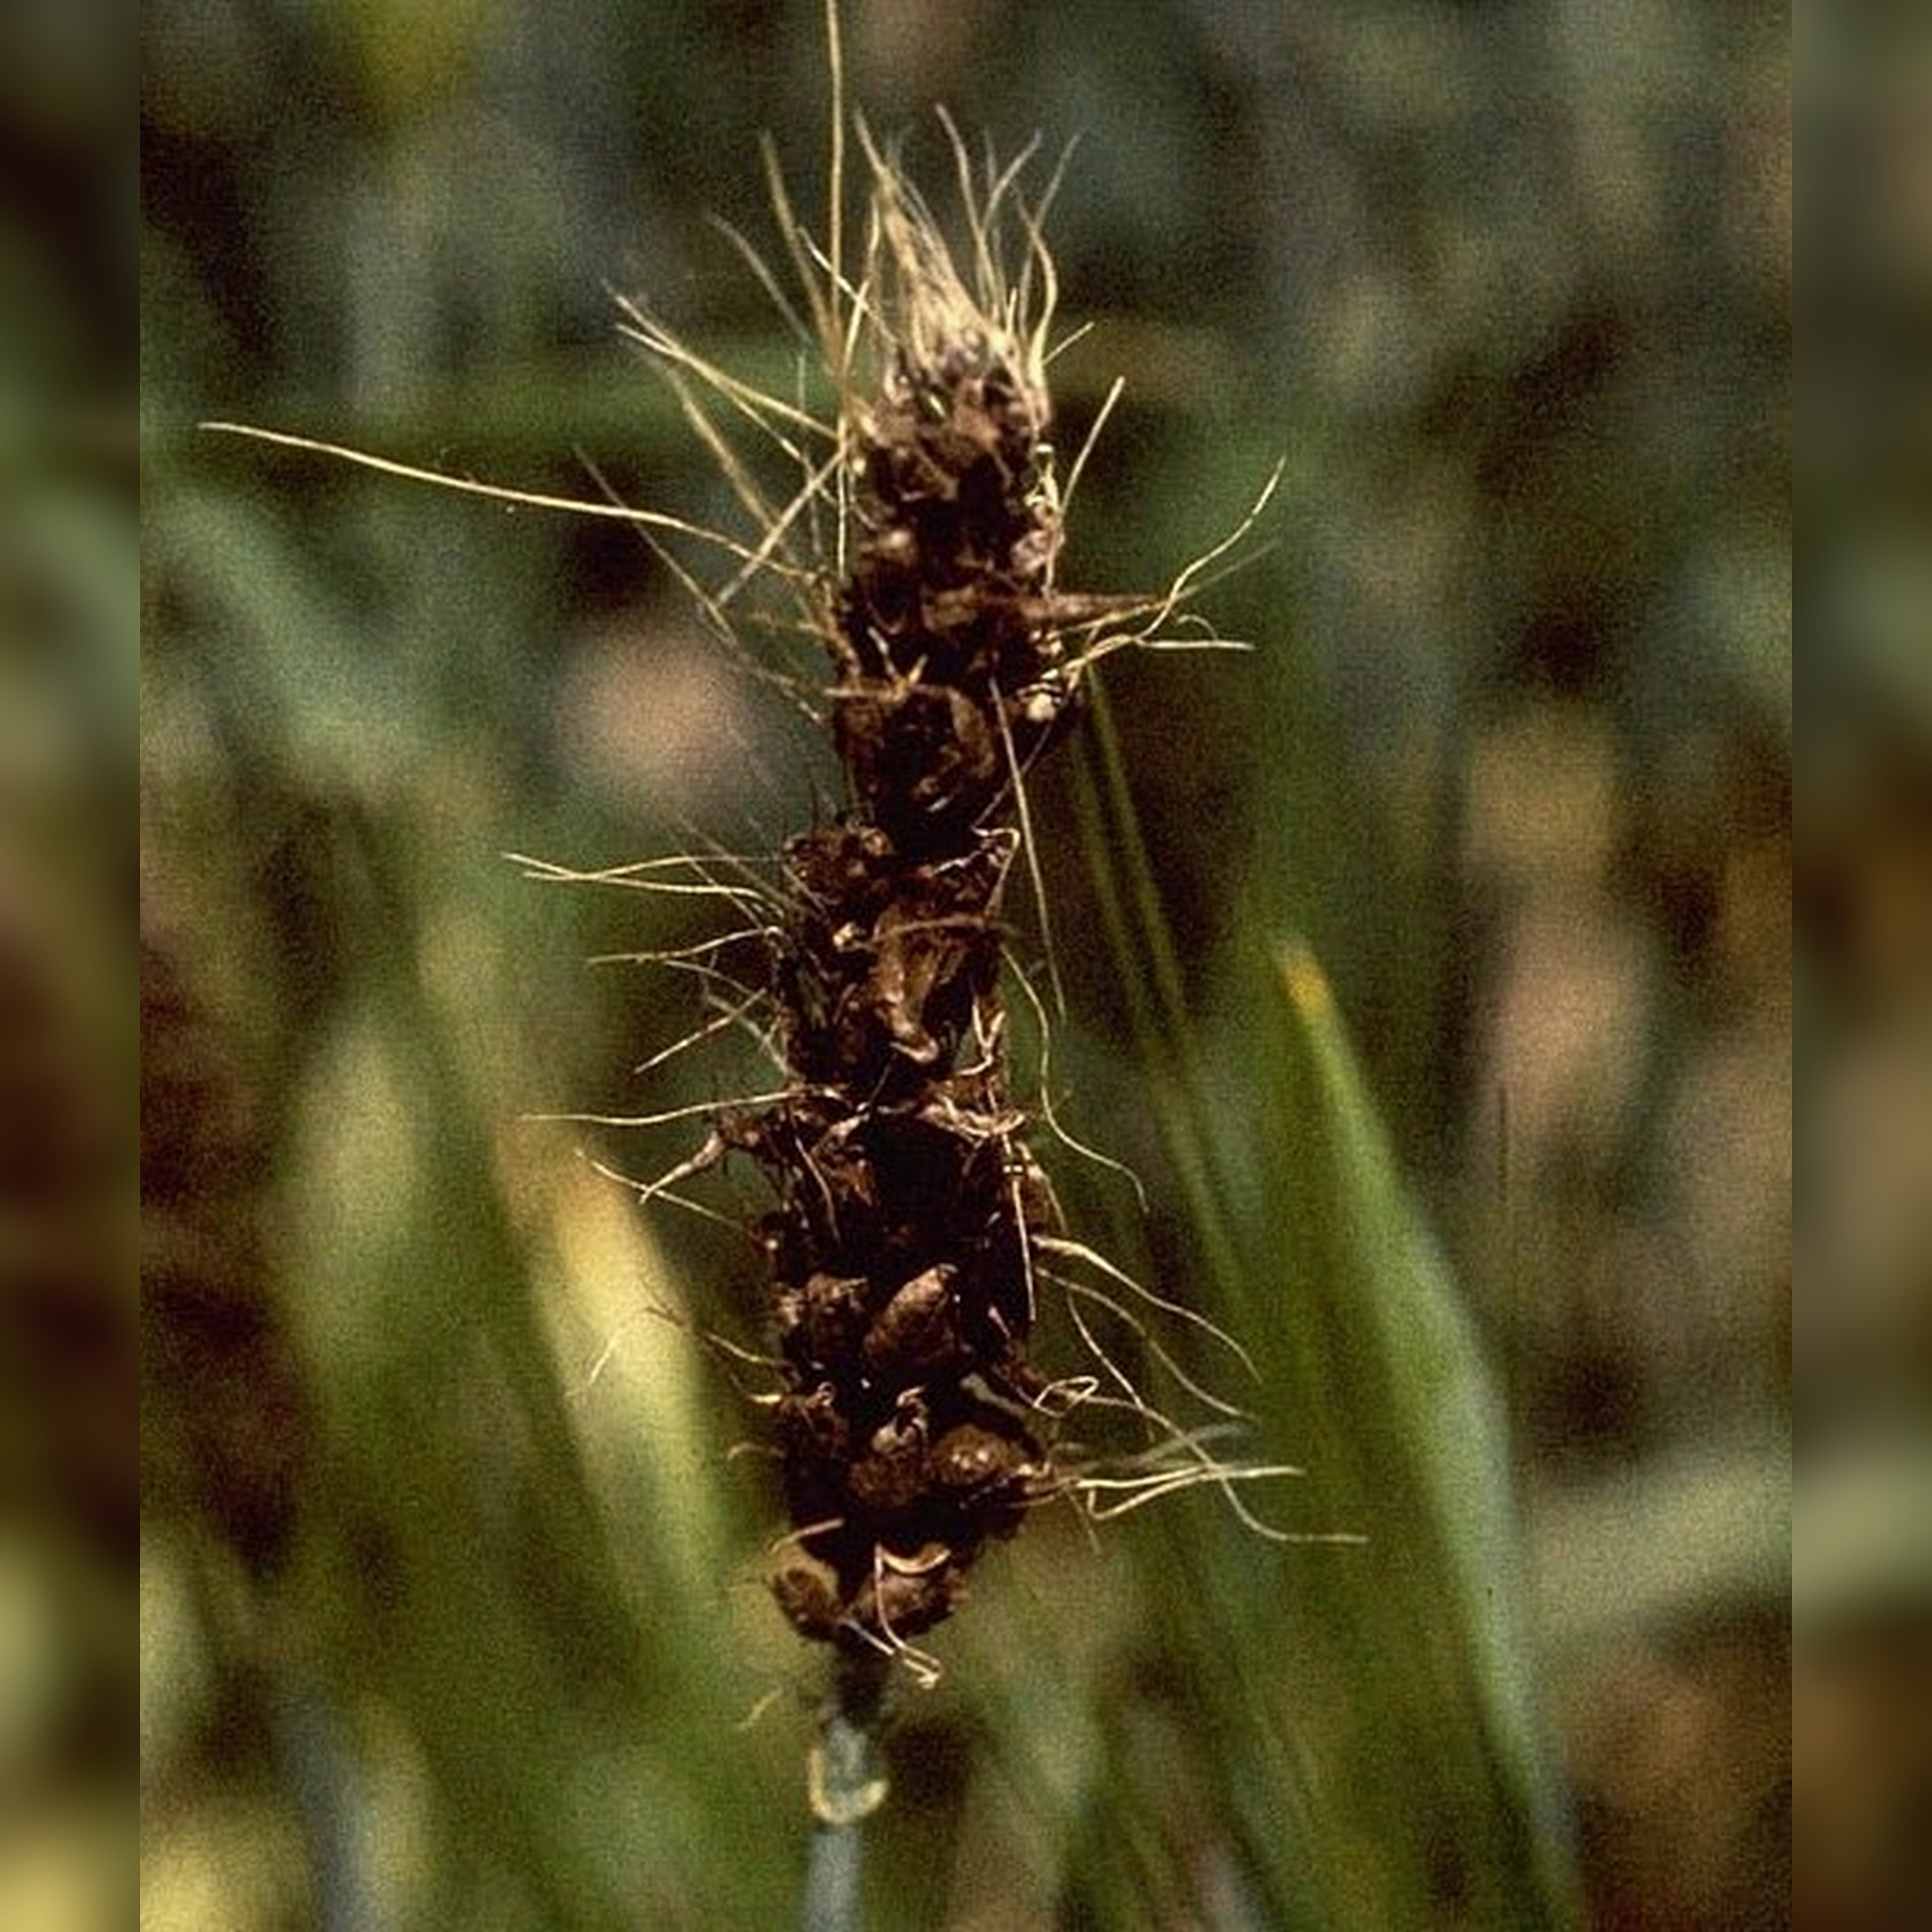Wheat Loose Smut: (478, 225, 1256, 1721)
